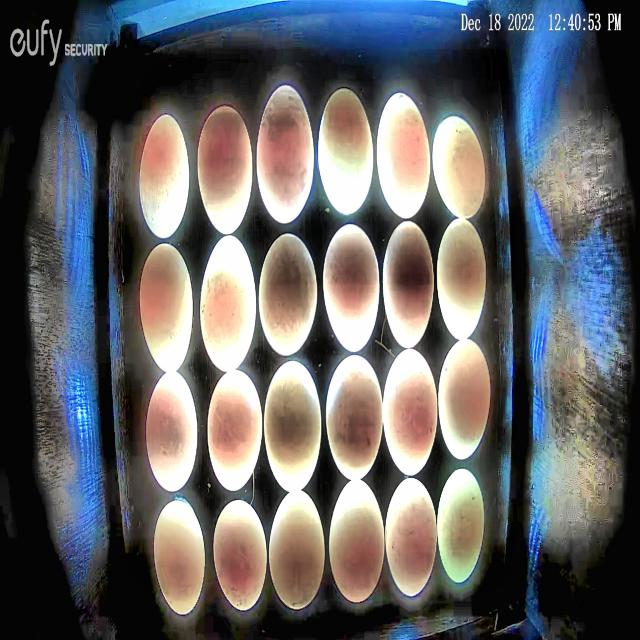UF: (256, 83, 315, 225), (199, 233, 257, 374), (263, 359, 323, 493), (322, 220, 381, 354), (324, 352, 384, 481), (197, 104, 254, 237), (317, 86, 375, 216), (258, 232, 318, 357), (139, 241, 194, 376), (382, 345, 438, 477), (328, 477, 386, 604), (206, 367, 263, 493), (376, 90, 431, 220), (382, 218, 435, 349), (269, 489, 326, 610), (138, 113, 191, 241), (384, 474, 437, 598), (438, 337, 491, 460), (146, 369, 198, 494), (436, 216, 487, 341), (213, 498, 268, 612), (153, 499, 206, 616), (436, 466, 486, 583), (431, 114, 486, 220)
